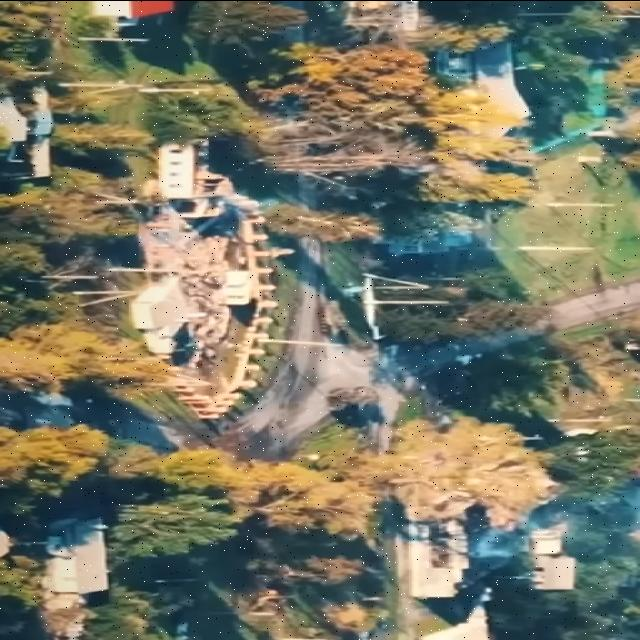APC-IFV: (318, 299, 360, 339)
TANK: (329, 380, 375, 416)
